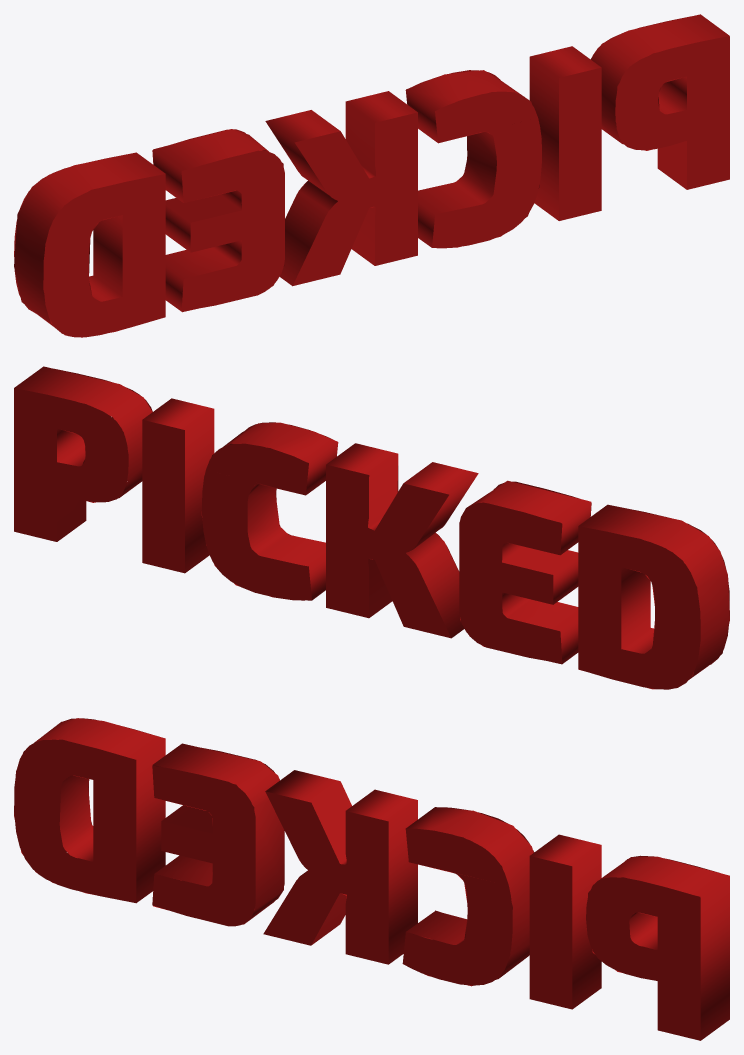
The model's file is picked.fbx.
The picture shows the model from 3 angles, top to bottom: view 1: azimuth 30°, elevation 25°; view 2: azimuth 150°, elevation 25°; view 3: azimuth 330°, elevation 25°; orthographic projection.
Visible parts, largest first — view 1: Text; view 2: Text; view 3: Text.
Boxes of the visible parts, x1=… form: Text: x1=14, y1=14, x2=729, y2=337; Text: x1=14, y1=366, x2=729, y2=689; Text: x1=14, y1=718, x2=729, y2=1040.
Size of the model in its own units: 10.84 by 2.24 by 0.8.
